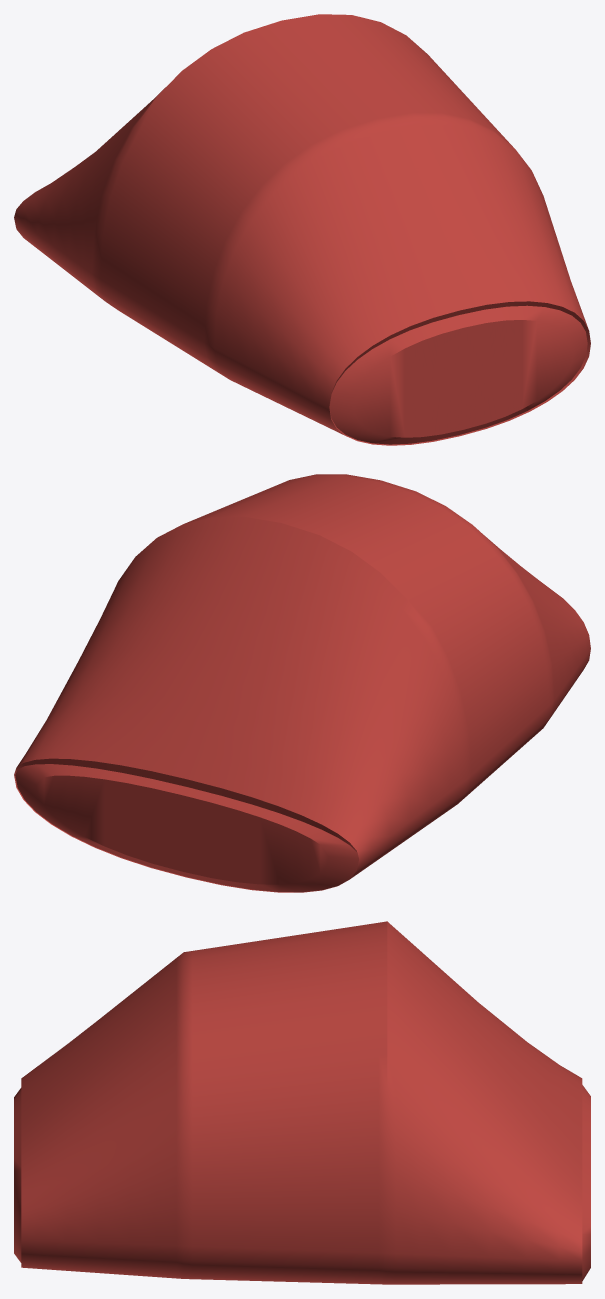
Rendered from solo.glb.
3 views of the same model, one above another, from view 1: azimuth 30°, elevation 25°; view 2: azimuth 150°, elevation 25°; view 3: azimuth 270°, elevation 25° (orthographic). The views are drawn at different scales.
Parts seen in each view (by area): view 1: lod0; view 2: lod0; view 3: lod0.
Part boxes in pixels (x1,y1,x2,y2): lod0: (14,14,590,445); lod0: (14,474,590,892); lod0: (14,921,590,1284).
Size of what is drawn, in the model's own units: 0.26 by 0.19 by 0.34.
